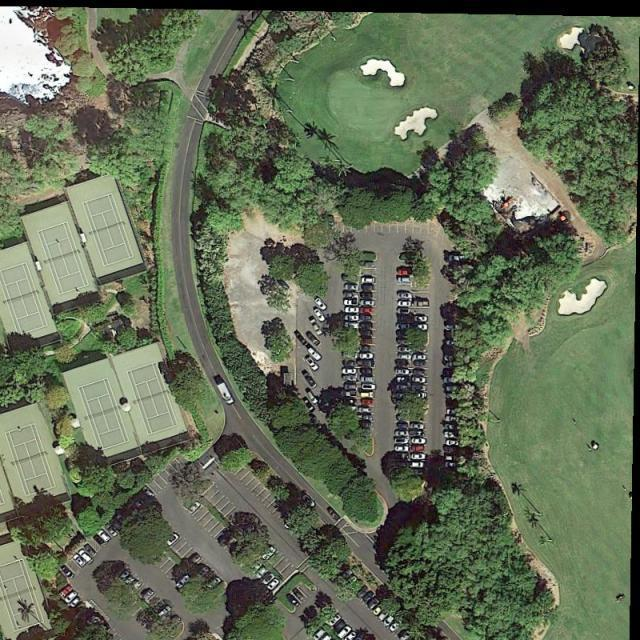vehicle: (217, 382, 235, 406), (174, 574, 192, 591), (302, 371, 318, 390), (196, 565, 212, 582), (293, 330, 309, 347), (306, 346, 322, 362), (306, 331, 322, 347), (78, 550, 94, 566), (186, 500, 202, 516), (206, 576, 222, 592), (187, 553, 203, 569), (261, 546, 277, 562), (376, 606, 392, 622), (301, 494, 317, 510), (72, 553, 87, 570), (332, 619, 347, 635), (61, 566, 76, 582), (126, 502, 141, 518), (382, 613, 398, 628), (286, 594, 302, 609), (306, 356, 320, 373), (127, 579, 142, 594), (110, 518, 125, 533), (389, 618, 404, 633), (327, 507, 342, 522), (86, 612, 102, 626), (342, 575, 358, 589), (310, 319, 323, 336), (312, 308, 326, 323), (64, 590, 79, 604), (84, 543, 98, 558), (97, 529, 111, 544), (158, 606, 173, 620), (104, 524, 119, 538), (366, 597, 381, 611), (355, 585, 370, 599), (292, 587, 306, 602), (306, 390, 319, 406), (338, 570, 354, 583), (338, 626, 352, 640), (361, 590, 375, 604), (255, 566, 269, 580), (303, 398, 316, 413), (59, 585, 74, 598), (373, 602, 386, 617), (314, 297, 327, 311), (329, 614, 342, 628), (123, 575, 136, 589), (141, 589, 155, 602), (142, 486, 156, 499), (262, 572, 275, 586), (267, 579, 281, 592), (93, 534, 106, 547), (165, 532, 178, 545), (132, 497, 145, 510), (117, 514, 130, 527), (313, 628, 327, 640), (358, 328, 374, 338), (445, 414, 461, 424), (69, 596, 82, 608), (343, 630, 358, 640), (398, 630, 413, 640), (360, 260, 376, 269), (342, 398, 358, 407), (446, 323, 463, 331), (341, 390, 358, 398), (395, 359, 410, 368), (446, 438, 461, 447), (445, 430, 460, 439), (410, 408, 426, 416), (342, 351, 358, 359), (397, 338, 413, 346), (357, 414, 373, 422), (344, 290, 358, 299), (345, 283, 359, 292), (343, 359, 357, 368), (344, 299, 359, 307), (342, 274, 357, 282), (445, 376, 460, 384), (412, 384, 427, 392), (396, 391, 411, 399), (359, 322, 374, 330), (446, 361, 461, 369), (398, 292, 413, 300), (397, 330, 412, 338), (395, 430, 410, 438), (395, 445, 410, 453), (411, 444, 426, 452), (362, 283, 375, 292), (345, 306, 359, 314), (445, 355, 461, 362), (410, 414, 424, 422), (444, 370, 460, 377), (446, 386, 460, 394), (394, 453, 410, 460), (361, 376, 375, 384), (360, 398, 374, 406), (410, 430, 424, 438), (410, 438, 426, 445), (119, 570, 129, 581), (357, 360, 375, 366), (414, 368, 426, 377), (446, 393, 461, 400), (344, 322, 359, 329), (342, 375, 357, 382), (360, 299, 375, 306), (412, 376, 427, 383), (395, 369, 410, 376), (396, 377, 411, 384), (362, 383, 377, 390), (447, 409, 462, 416), (446, 424, 461, 431), (409, 462, 424, 469), (410, 423, 425, 430), (394, 438, 409, 445), (346, 314, 359, 322), (399, 299, 412, 307), (397, 314, 410, 322), (361, 368, 374, 376), (359, 406, 372, 414), (449, 256, 466, 262), (362, 277, 376, 284), (398, 277, 412, 284), (396, 407, 410, 414), (344, 383, 358, 390), (360, 307, 374, 314), (359, 314, 373, 321), (358, 345, 372, 352), (414, 324, 428, 331), (414, 315, 428, 322), (398, 353, 412, 360), (396, 384, 410, 391), (360, 391, 374, 398), (358, 422, 372, 429), (398, 270, 414, 276), (358, 338, 374, 344), (358, 353, 374, 359), (414, 301, 430, 307), (342, 368, 358, 374), (398, 422, 410, 430), (410, 454, 426, 460), (397, 400, 410, 407), (397, 323, 410, 330), (447, 340, 462, 346), (398, 346, 413, 352), (361, 291, 373, 298), (413, 354, 427, 360), (397, 415, 409, 422), (446, 455, 458, 462), (446, 462, 458, 469), (321, 634, 334, 640), (414, 361, 426, 367), (398, 308, 410, 314), (413, 393, 427, 398)
